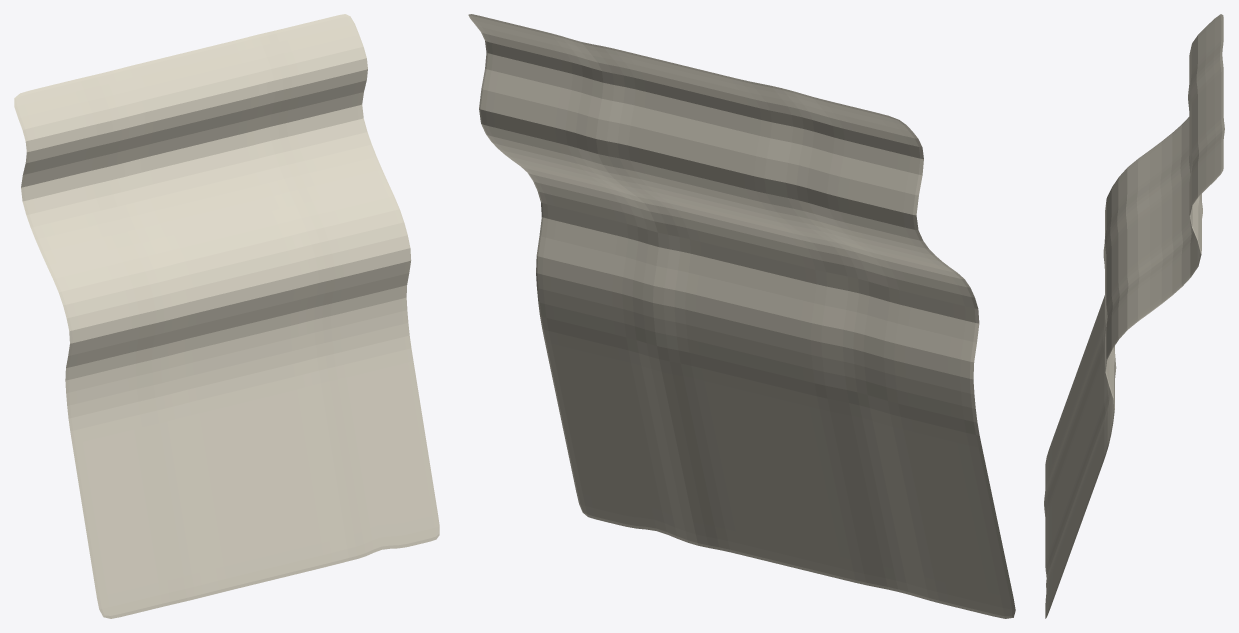
File: LPapel.fbx
3 renders of one model, left to right at view 1: azimuth 30°, elevation 25°; view 2: azimuth 150°, elevation 25°; view 3: azimuth 270°, elevation 25°, orthographic. The views are drawn at different scales.
Visible parts, largest first — view 1: Plane; view 2: Plane; view 3: Plane.
Part boxes in pixels (box(x1,y1,x2,y2)): Plane: box(14, 14, 439, 618); Plane: box(468, 14, 1015, 618); Plane: box(1044, 14, 1224, 618).
Bounding box in the file's own units: 317 × 409 × 149.
